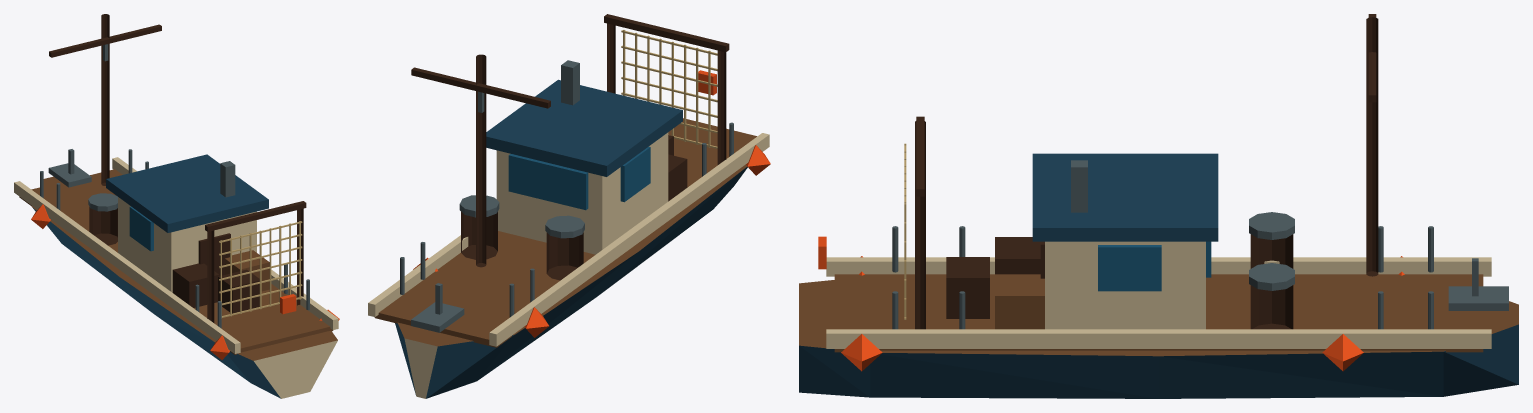
File: sapphire_fishing_boat.obj
3 views of the same model, side by side, from view 1: azimuth 30°, elevation 25°; view 2: azimuth 150°, elevation 25°; view 3: azimuth 270°, elevation 25° (orthographic). The views are drawn at different scales.
Visible parts, largest first — view 1: SapphireFishingBoat; view 2: SapphireFishingBoat; view 3: SapphireFishingBoat.
Boxes of the visible parts, x1,y1,x2,y2 form: SapphireFishingBoat: (14, 14, 339, 398); SapphireFishingBoat: (368, 14, 770, 398); SapphireFishingBoat: (799, 14, 1518, 398).
Bounding box in the file's own units: 2.7 × 4.77 × 8.6.
